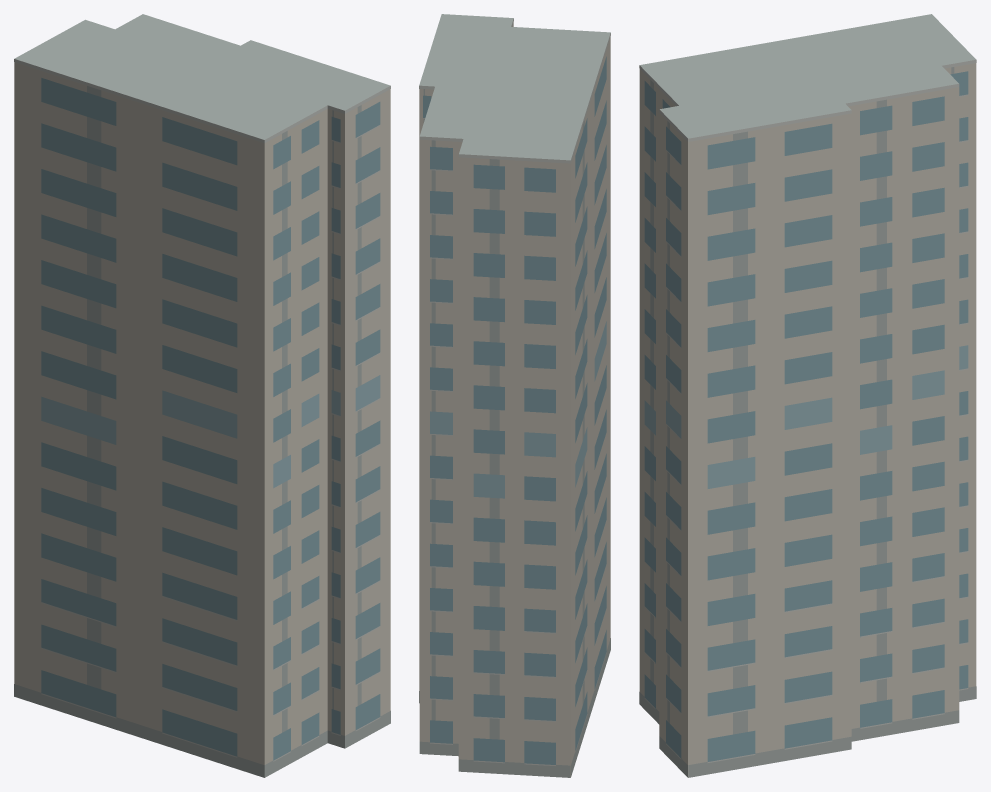
The model's file is residential-165e7e09-994a-4124-bdd6-f0a5eb107428.glb.
The picture shows the model from 3 angles, left to right: view 1: azimuth 30°, elevation 25°; view 2: azimuth 150°, elevation 25°; view 3: azimuth 270°, elevation 25°; orthographic projection. The views are drawn at different scales.
Visible parts, largest first — view 1: residential-165e7e09-994a-4124-bdd6-f0a5eb107428.tmp; view 2: residential-165e7e09-994a-4124-bdd6-f0a5eb107428.tmp; view 3: residential-165e7e09-994a-4124-bdd6-f0a5eb107428.tmp.
Boxes of the visible parts, bbox=[...] form: residential-165e7e09-994a-4124-bdd6-f0a5eb107428.tmp: bbox=[14, 14, 390, 777]; residential-165e7e09-994a-4124-bdd6-f0a5eb107428.tmp: bbox=[419, 14, 610, 777]; residential-165e7e09-994a-4124-bdd6-f0a5eb107428.tmp: bbox=[639, 14, 976, 777].
Size of the model in its own units: 19.67 by 47 by 22.46.
